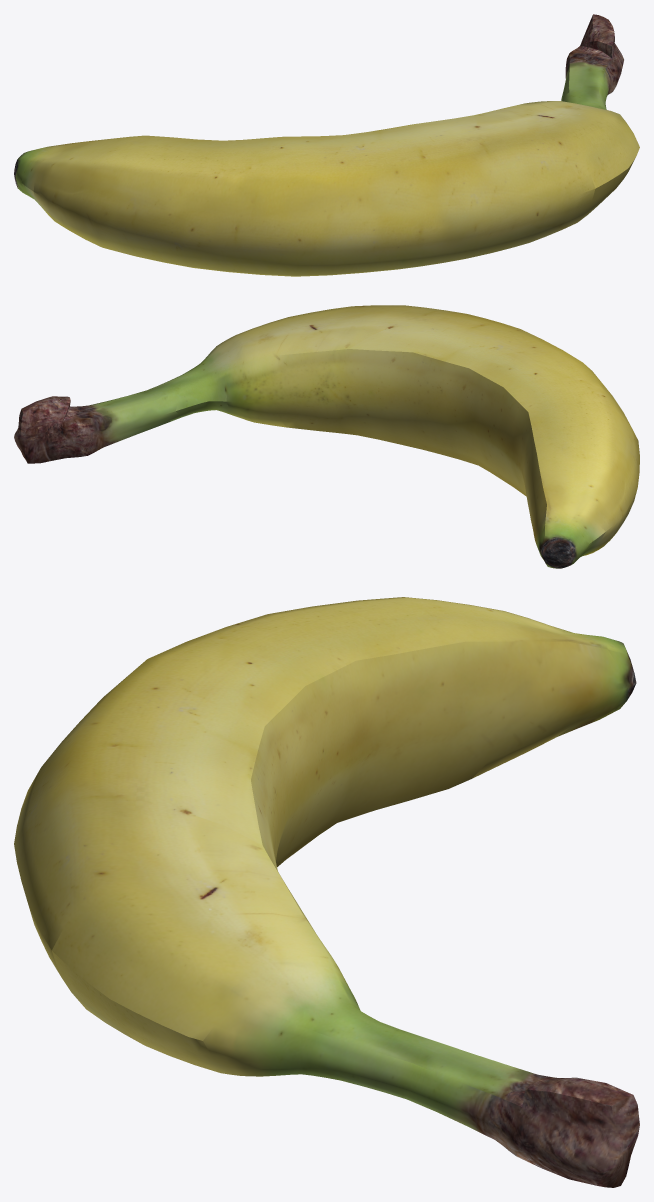
The model's file is banana.obj.
3 views of the same model, one above another, from view 1: azimuth 30°, elevation 25°; view 2: azimuth 150°, elevation 25°; view 3: azimuth 270°, elevation 25° (orthographic). The views are drawn at different scales.
Visible parts, largest first — view 1: Cube.001; view 2: Cube.001; view 3: Cube.001.
Boxes of the visible parts, x1,y1,x2,y2 form: Cube.001: (14, 14, 639, 276); Cube.001: (14, 305, 639, 568); Cube.001: (14, 597, 639, 1187).
Size of the model in its own units: 5.98 by 1.11 by 3.31.
1 material, 1 textured.
